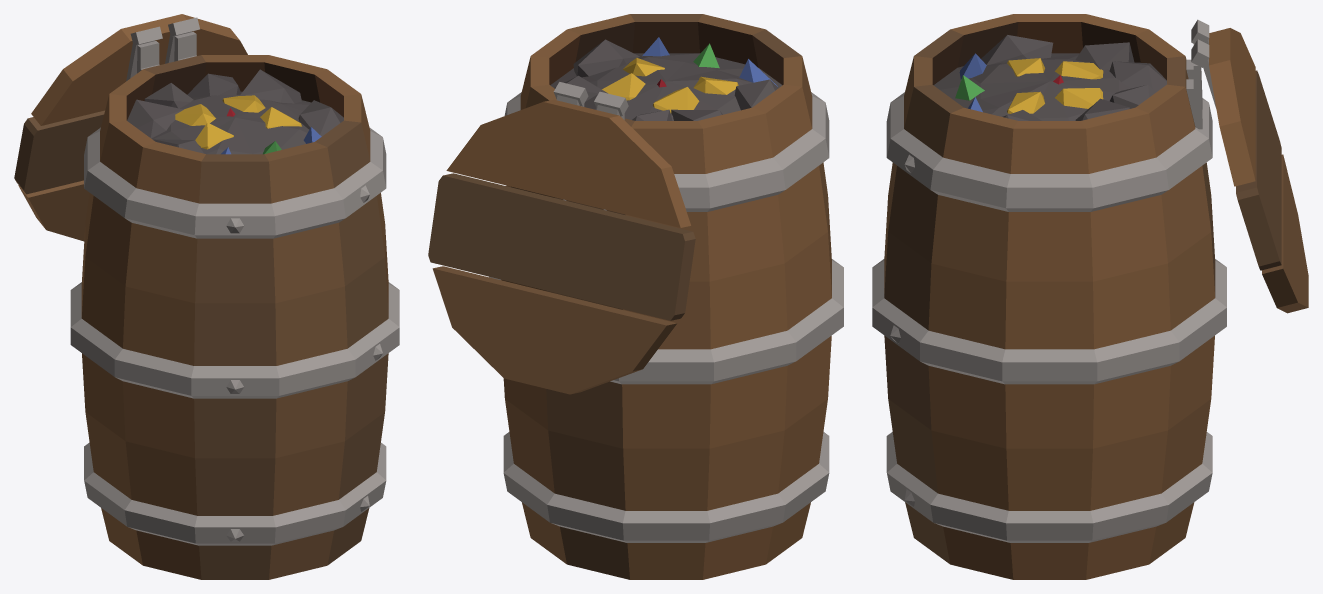
The model's file is wooden-barrel-6afab0.glb.
The picture shows the model from 3 angles, left to right: view 1: azimuth 30°, elevation 25°; view 2: azimuth 150°, elevation 25°; view 3: azimuth 270°, elevation 25°; orthographic projection. The views are drawn at different scales.
Parts seen in each view (by area): view 1: barrel-matte, barrel-metal, lid-matte, barrel-gem, lid-metal; view 2: barrel-matte, lid-matte, barrel-metal, barrel-gem, lid-metal; view 3: barrel-matte, barrel-metal, lid-matte, barrel-gem, lid-metal.
Part boxes in pixels (x1,y1,x2,y2): barrel-matte: (81,55,388,579); barrel-metal: (70,31,399,545); lid-matte: (14,14,247,241); barrel-gem: (127,69,343,154); lid-metal: (126,17,199,81); barrel-matte: (501,14,831,579); lid-matte: (428,99,695,394); barrel-metal: (489,58,843,542); barrel-gem: (550,37,782,120); lid-metal: (553,82,628,210); barrel-matte: (884,14,1215,579); barrel-metal: (872,44,1226,542); lid-matte: (1209,28,1308,313); barrel-gem: (933,35,1166,120); lid-metal: (1191,19,1216,108).
Bounding box in the file's own units: 0.6413 × 0.9713 × 0.7888.
